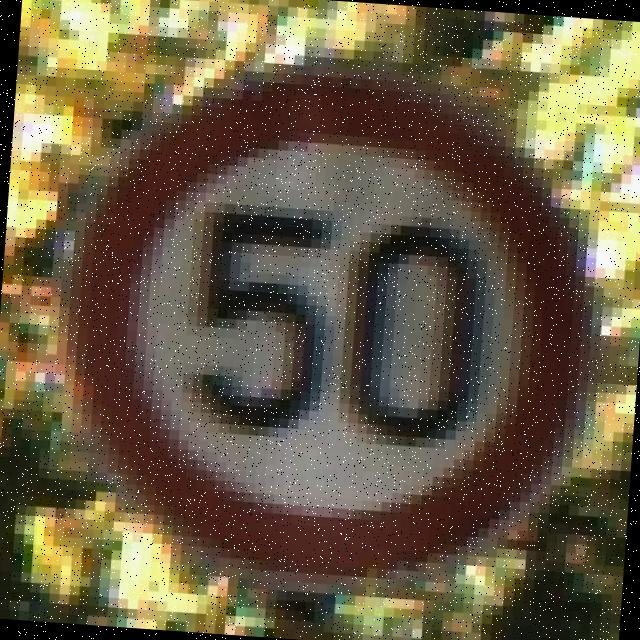Ograniczenie predkosci do 50: (55, 60, 598, 592)
